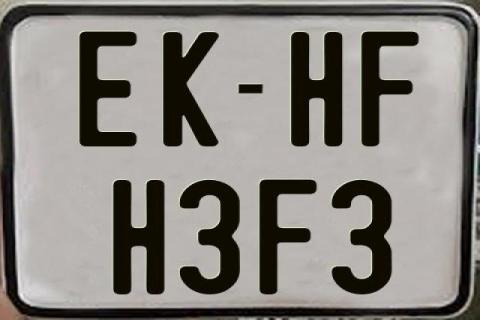0: (330, 180, 396, 299), (177, 178, 240, 294)
E: (77, 29, 141, 149)
F: (358, 29, 422, 149), (256, 179, 320, 299)
H: (291, 29, 344, 145), (111, 180, 164, 294)
K: (162, 30, 219, 146)
